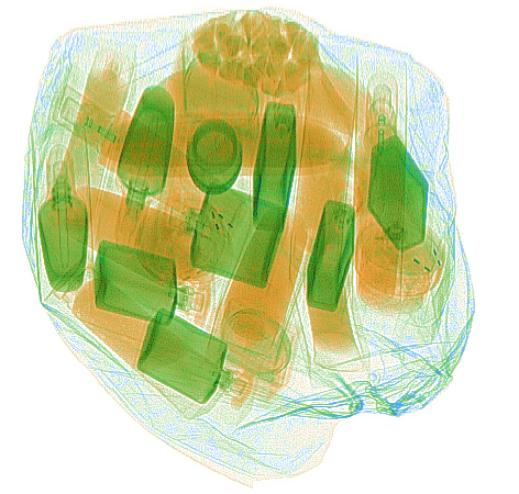plasticBottleWithaNozzle: (49, 80, 248, 232), (358, 68, 400, 307)
